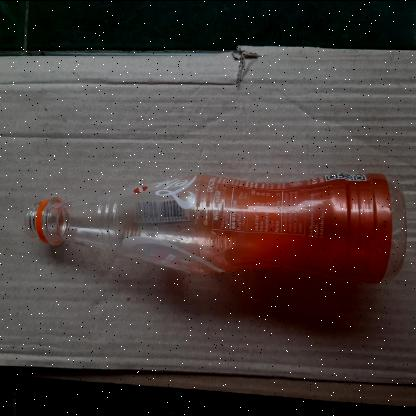Plastic Bottle: (26, 173, 406, 283)
